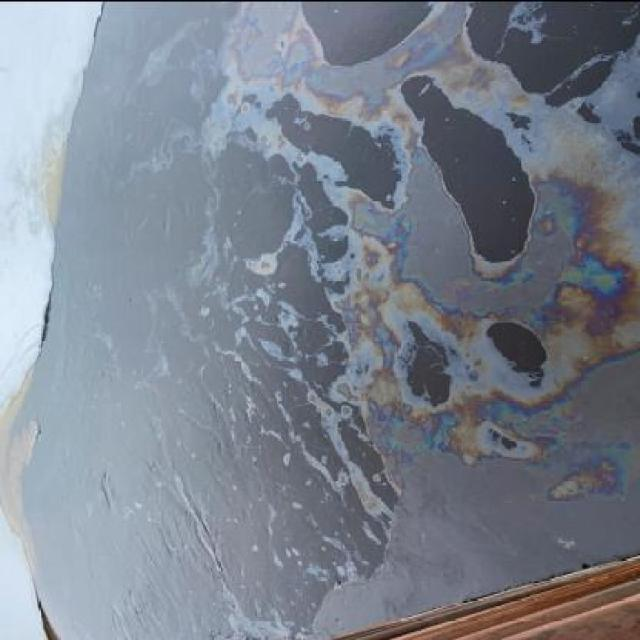sheen: (226, 3, 640, 635)
